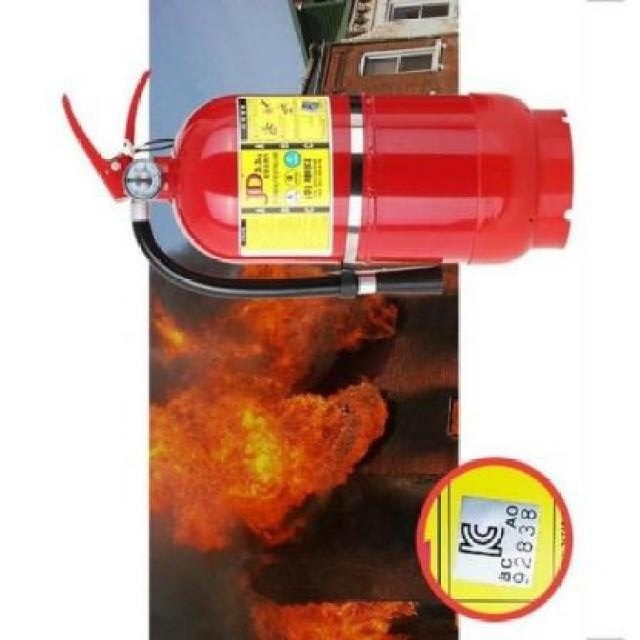fire extinguisher: (61, 70, 574, 299)
